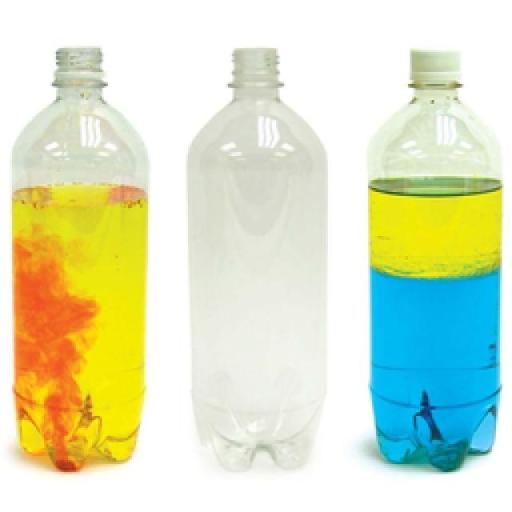plastic: (186, 44, 326, 470), (10, 44, 148, 470), (366, 48, 502, 470)
